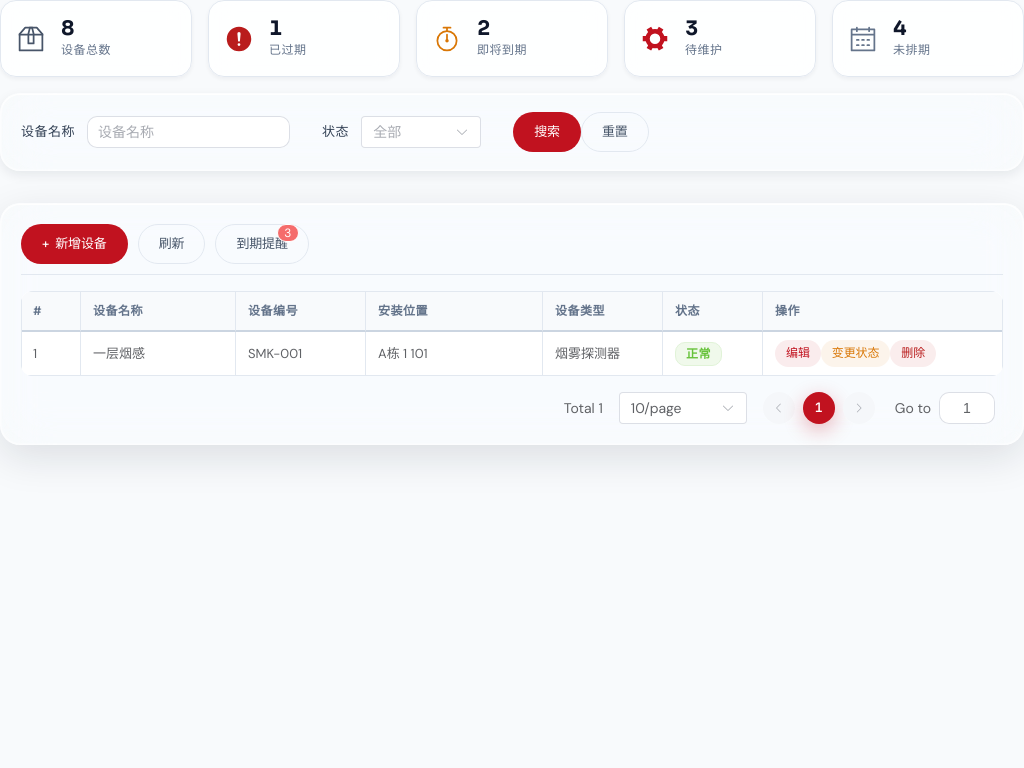
Test: DeviceView 新增保存载荷 › 安装日期预填为本地今天（该日期由本机日历决定，UTC 快照口径会退一天）
Click the button "+ 新增设备" at (74, 244), box [21,224,128,264]
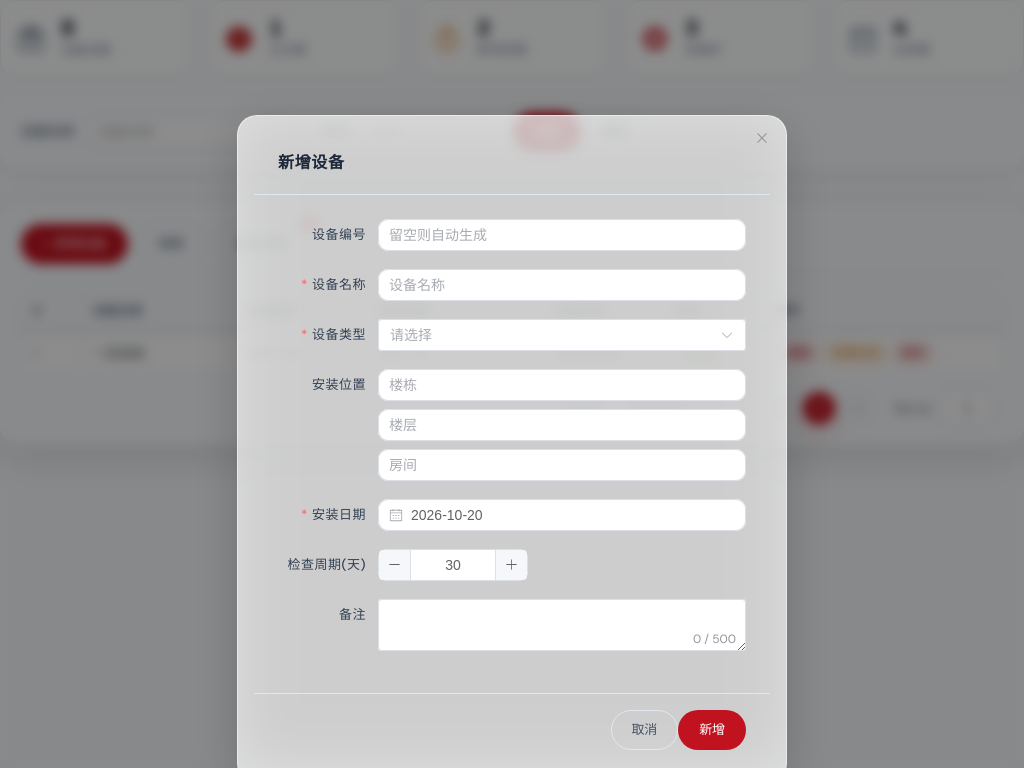
expect the dropdown with placeholder "安装日期" is shown: met, box [411,500,735,530]
